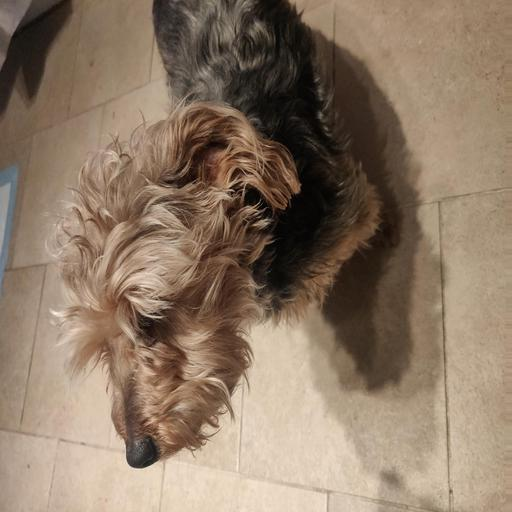dog: (41, 103, 410, 472)
